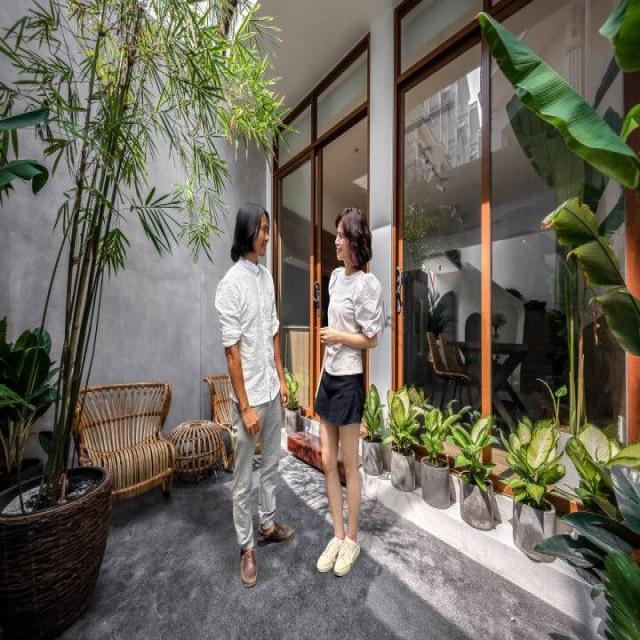obstacle: (71, 380, 176, 504)
person: (213, 201, 295, 587), (314, 205, 384, 576)
